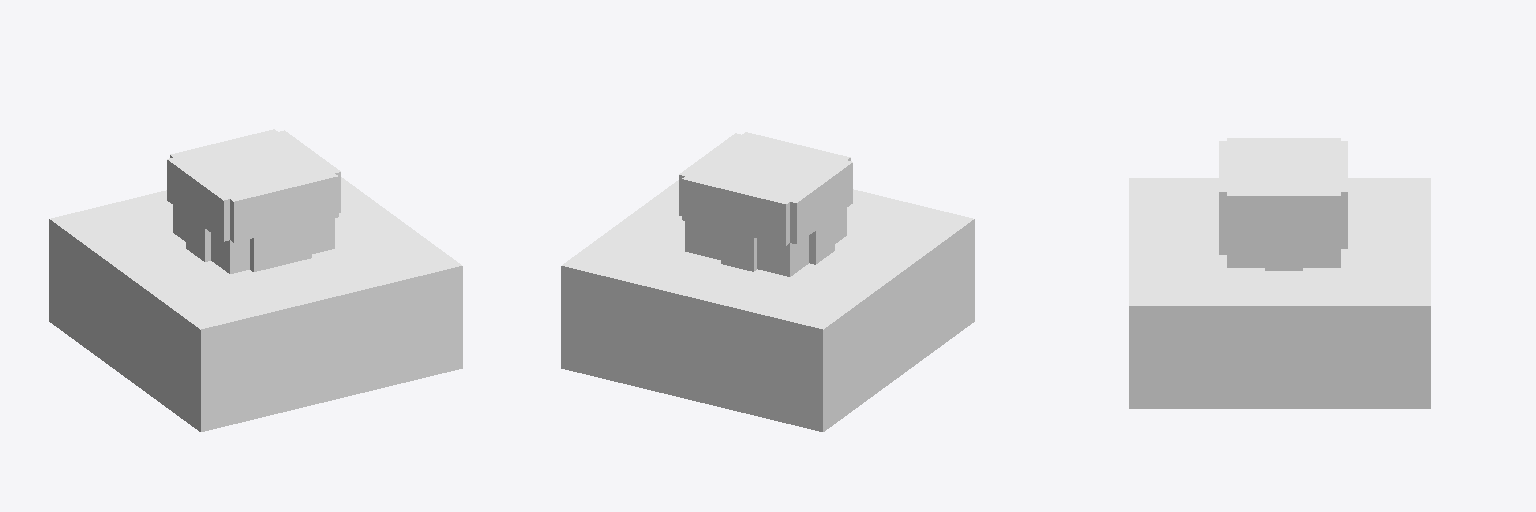
Rendered from Hat3.obj.
The picture shows the model from 3 angles: view 1: azimuth 30°, elevation 25°; view 2: azimuth 150°, elevation 25°; view 3: azimuth 270°, elevation 25°; orthographic projection.
Visible parts, largest first — view 1: object 1; view 2: object 1; view 3: object 1.
Boxes of the visible parts, box(x1,y1,x2,y2) form: object 1: box(49, 129, 462, 431); object 1: box(561, 132, 974, 431); object 1: box(1129, 138, 1430, 408).
Bounding box in the file's own units: 4 × 2.6 × 4.